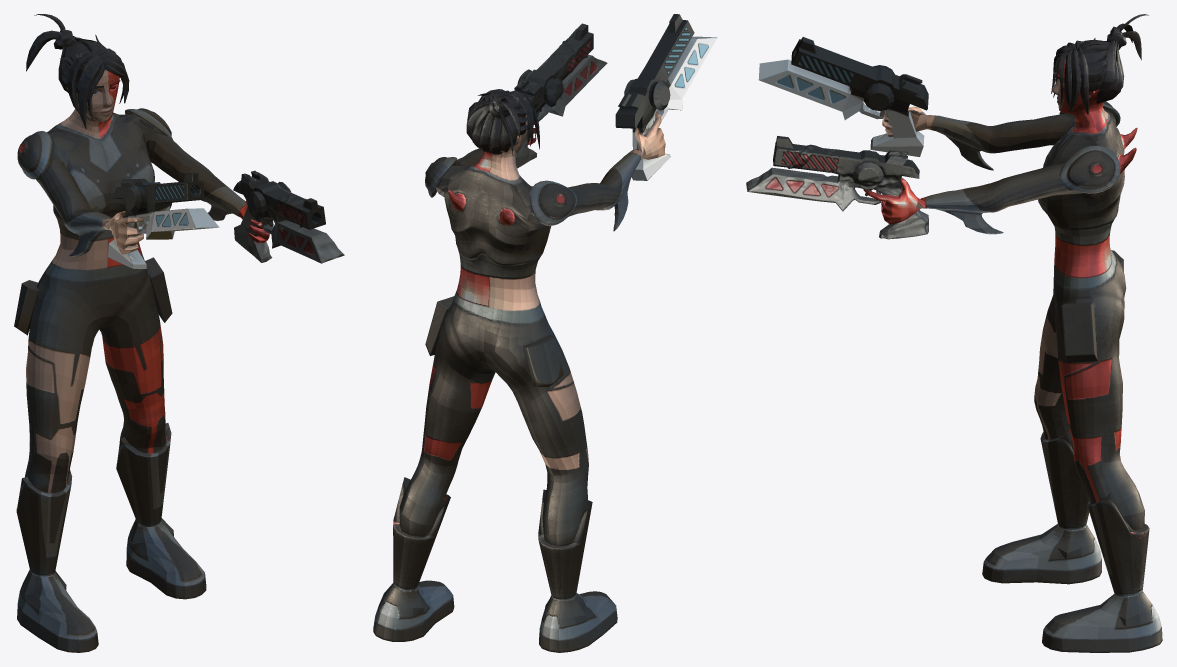
The picture shows the model from 3 angles, left to right: view 1: azimuth 30°, elevation 25°; view 2: azimuth 150°, elevation 25°; view 3: azimuth 270°, elevation 25°; orthographic projection. The views are drawn at different scales.
Visible parts, largest first — view 1: Dex_LOW_Plane.001; view 2: Dex_LOW_Plane.001; view 3: Dex_LOW_Plane.001.
Part boxes in pixels (x1,y1,x2,y2): Dex_LOW_Plane.001: (14,14,344,652); Dex_LOW_Plane.001: (373,14,717,652); Dex_LOW_Plane.001: (746,14,1162,652).
Size of the model in its own units: 1.63 by 4.79 by 3.13.
